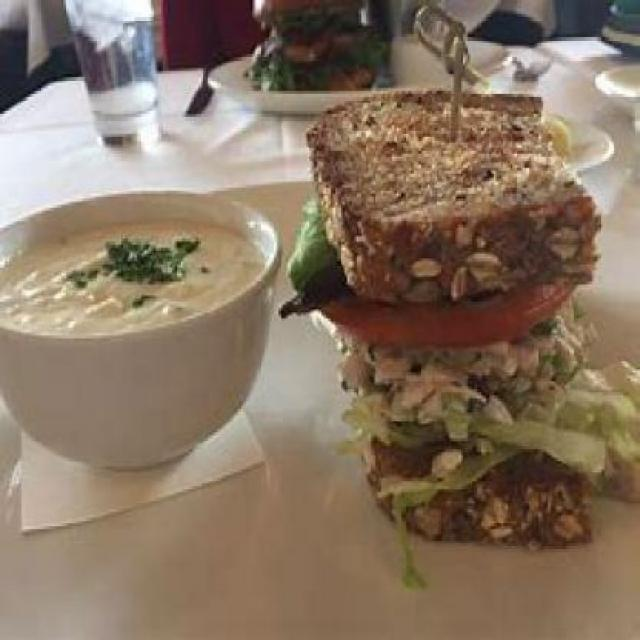club sandwich: (299, 96, 638, 581)
